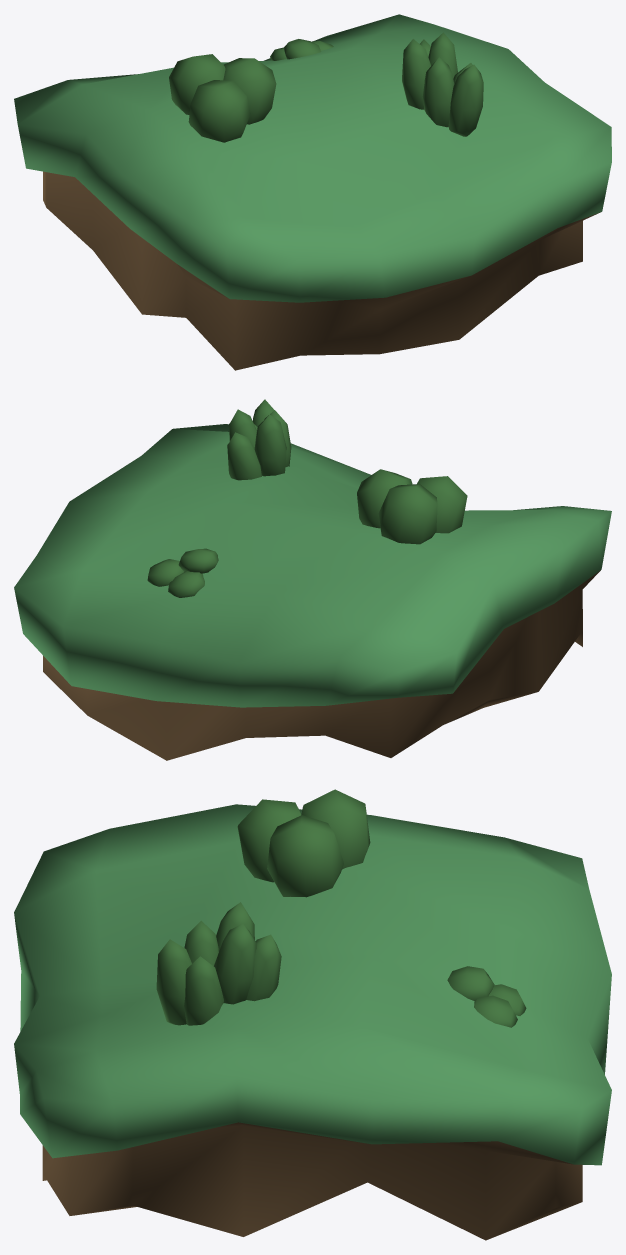
Rendered from island02-4.fbx.
3 renders of one model, top to bottom at view 1: azimuth 30°, elevation 25°; view 2: azimuth 150°, elevation 25°; view 3: azimuth 270°, elevation 25°, orthographic. The views are drawn at different scales.
Parts seen in each view (by area): view 1: island02-4; view 2: island02-4; view 3: island02-4.
Part boxes in pixels (x1,y1,x2,y2): island02-4: [14, 14, 611, 370]; island02-4: [14, 399, 611, 760]; island02-4: [14, 789, 611, 1240].
Size of the model in its own units: 5542 by 3023 by 5163.
